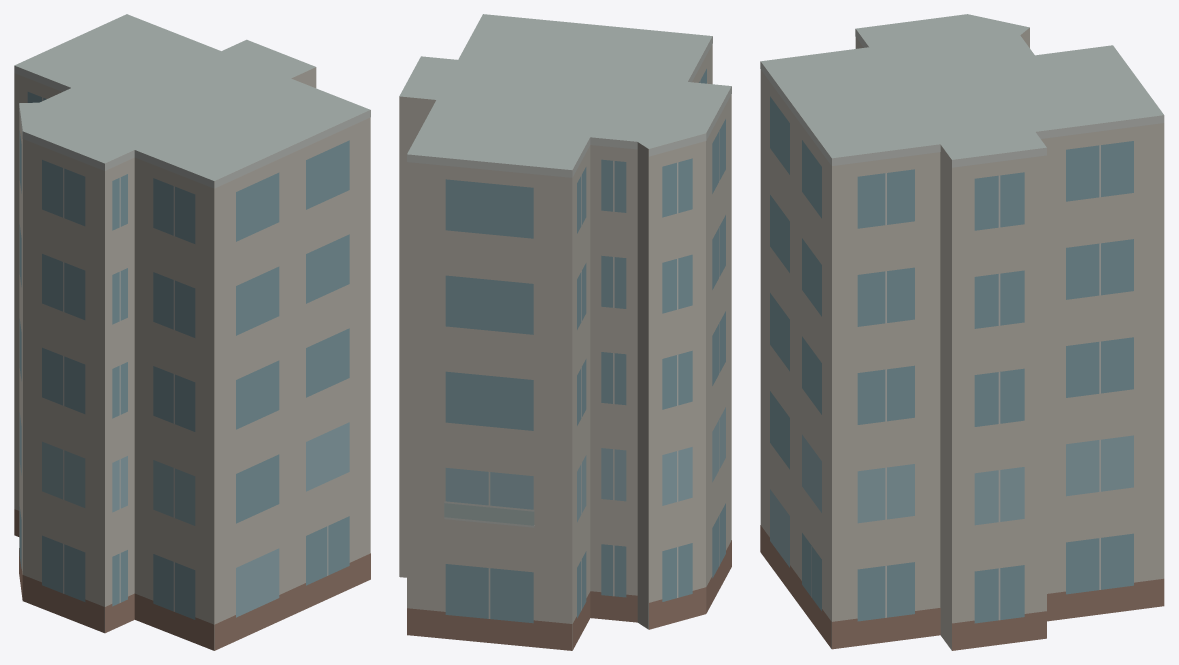
The model's file is survey-upis-32616105.glb.
The picture shows the model from 3 angles, left to right: view 1: azimuth 30°, elevation 25°; view 2: azimuth 150°, elevation 25°; view 3: azimuth 270°, elevation 25°; orthographic projection. The views are drawn at different scales.
Visible parts, largest first — view 1: survey-upis-32616105.tmp; view 2: survey-upis-32616105.tmp; view 3: survey-upis-32616105.tmp.
Part boxes in pixels (left/top/right/bottom): survey-upis-32616105.tmp: left=14, top=14, right=370, bottom=650; survey-upis-32616105.tmp: left=399, top=14, right=731, bottom=650; survey-upis-32616105.tmp: left=760, top=14, right=1164, bottom=650.
Size of the model in its own units: 9.76 by 15.3 by 11.42.
